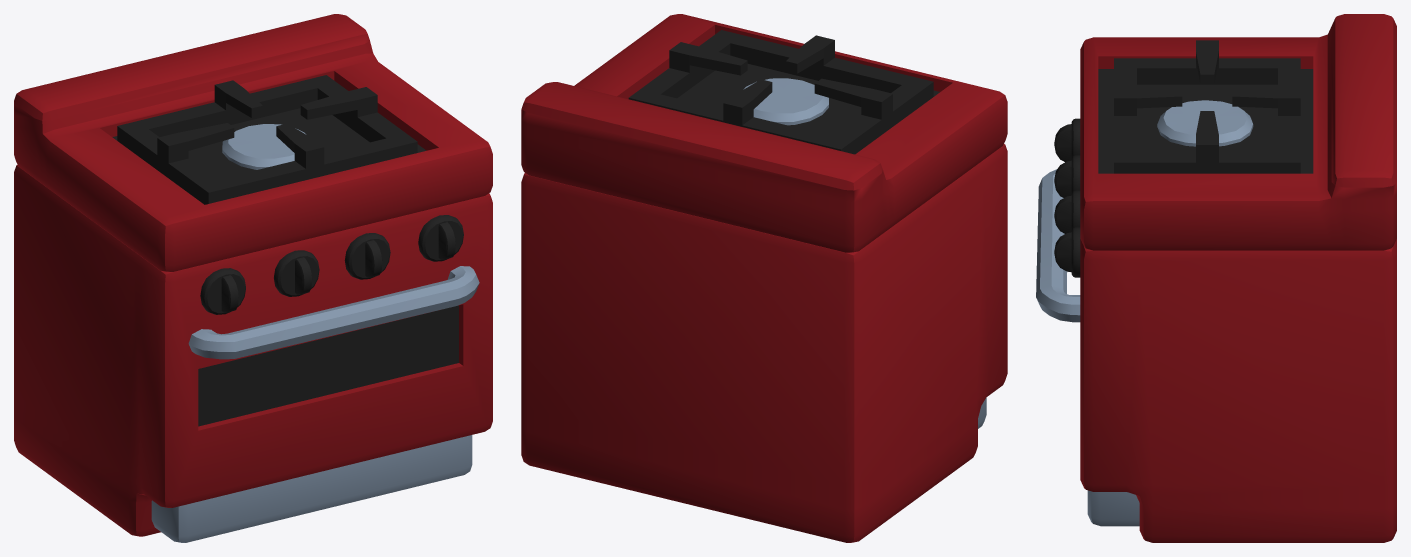
Rendered from Environment_Oven.glb.
3 renders of one model, left to right at view 1: azimuth 30°, elevation 25°; view 2: azimuth 150°, elevation 25°; view 3: azimuth 270°, elevation 25°, orthographic. The views are drawn at different scales.
Parts seen in each view (by area): view 1: Environment_Oven; view 2: Environment_Oven; view 3: Environment_Oven.
Boxes of the visible parts, x1,y1,x2,y2 form: Environment_Oven: [14, 14, 492, 542]; Environment_Oven: [521, 14, 1007, 542]; Environment_Oven: [1036, 14, 1396, 542].
Bounding box in the file's own units: 2.14 × 2.23 × 1.96.
1 material, 1 textured.
